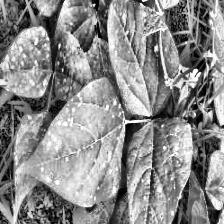Bean Rust: (20, 76, 128, 208), (105, 0, 180, 115), (127, 117, 192, 224), (10, 111, 56, 222), (0, 26, 52, 98), (56, 35, 93, 103), (53, 0, 95, 49), (99, 0, 126, 40)
